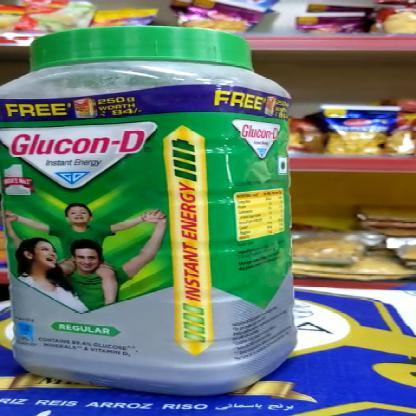Glucon D Regular 2-KG: (2, 25, 300, 383)
